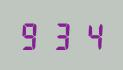four: (75, 20, 102, 50)
nine: (18, 20, 45, 50)
three: (47, 20, 74, 50)
